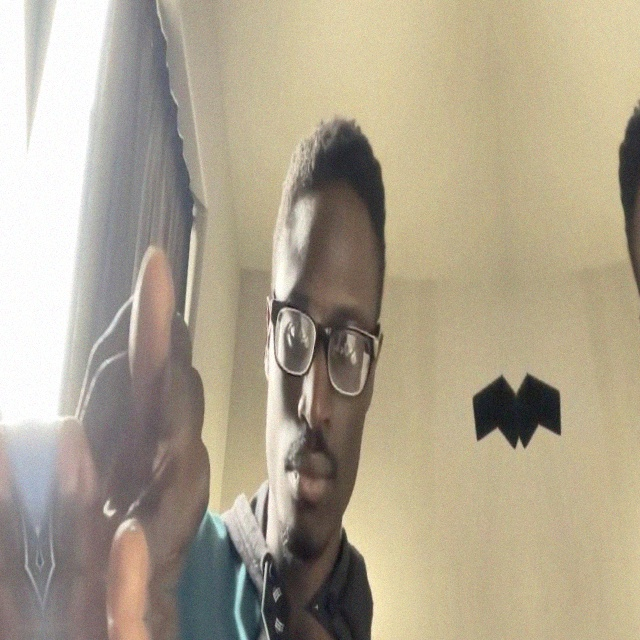Scissors: (0, 232, 30, 624)
